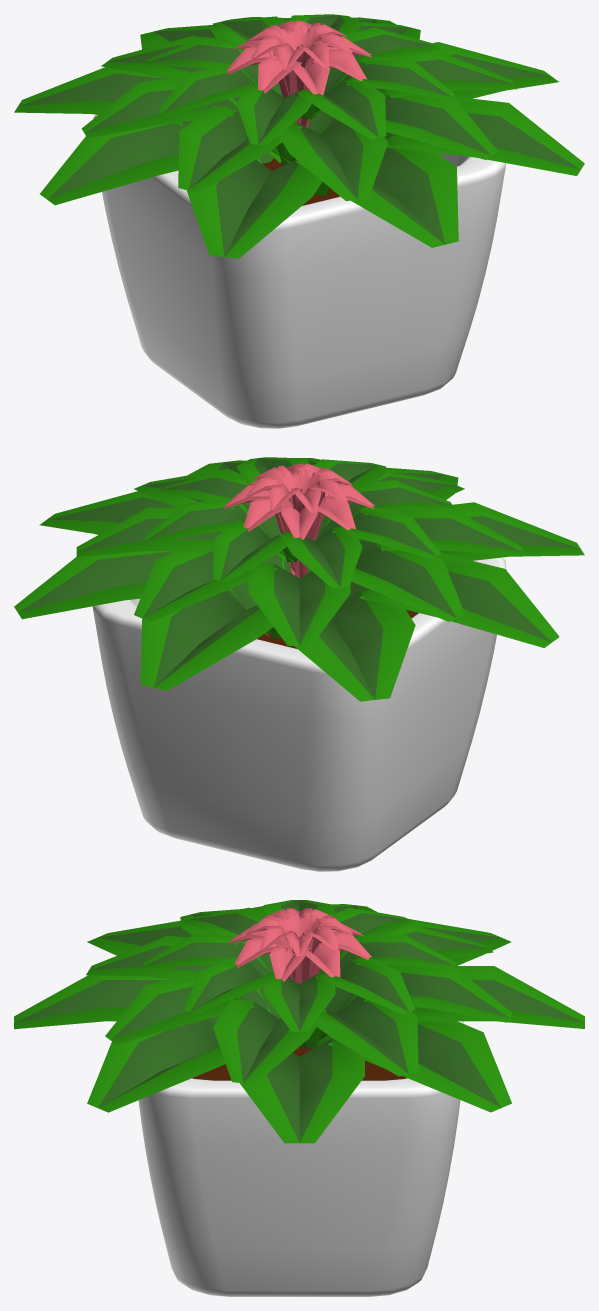
The model's file is Vasinho.glb.
3 renders of one model, top to bottom at view 1: azimuth 30°, elevation 25°; view 2: azimuth 150°, elevation 25°; view 3: azimuth 270°, elevation 25°, orthographic. The views are drawn at different scales.
Parts seen in each view (by area): view 1: Plane.018; view 2: Plane.018; view 3: Plane.018.
Boxes of the visible parts, bbox=[...] form: Plane.018: bbox=[14, 14, 584, 428]; Plane.018: bbox=[14, 457, 584, 871]; Plane.018: bbox=[14, 900, 584, 1296].
Size of the model in its own units: 4.55 by 2.86 by 4.55.
